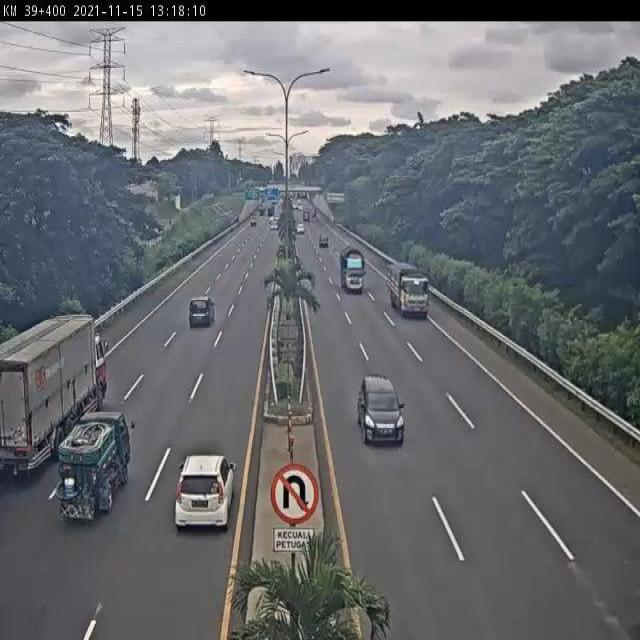car: (174, 452, 237, 531), (356, 371, 405, 445), (189, 295, 217, 329)
truck-l-: (0, 309, 108, 484), (387, 261, 431, 319)
truck-m-: (56, 412, 132, 523), (339, 243, 364, 293)
